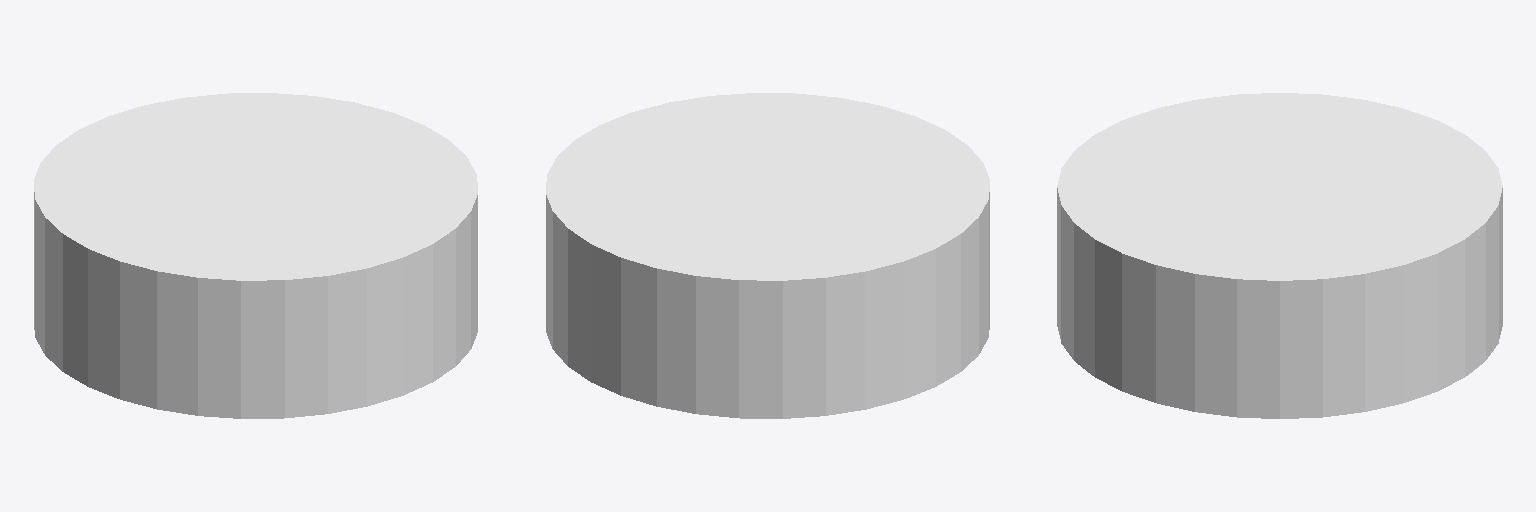
File: object_carobj.obj
3 renders of one model, left to right at view 1: azimuth 30°, elevation 25°; view 2: azimuth 150°, elevation 25°; view 3: azimuth 270°, elevation 25°, orthographic.
Parts seen in each view (by area): view 1: 柱体; view 2: 柱体; view 3: 柱体.
Boxes of the visible parts, <box> form: 柱体: <box>34,93,477,418</box>; 柱体: <box>546,93,989,418</box>; 柱体: <box>1057,93,1502,418</box>.
Bounding box in the file's own units: 2 × 0.6844 × 2.